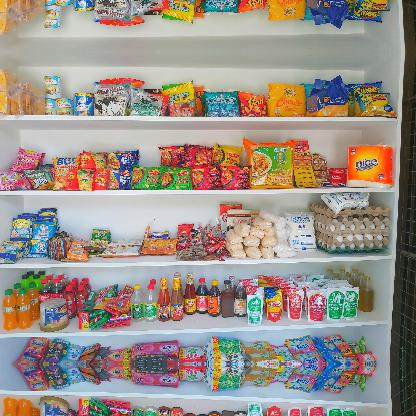Lady-s-Choice: (38, 296, 70, 332), (38, 395, 70, 415)
